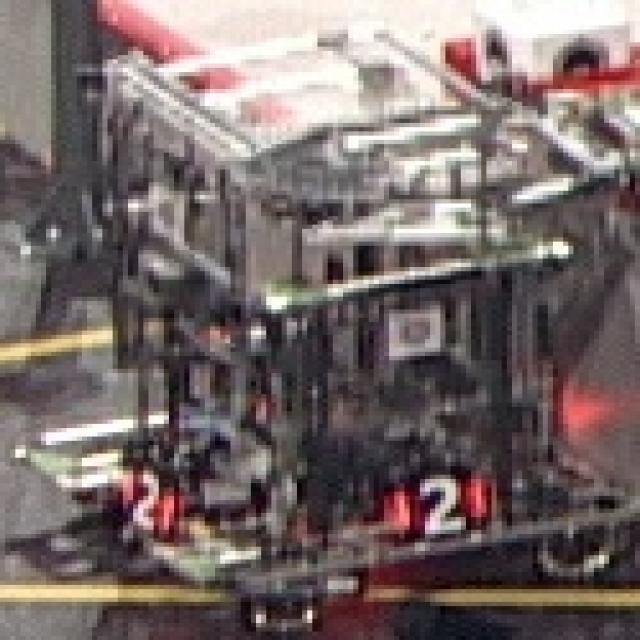R2: (389, 471, 487, 538), (113, 466, 184, 534)
